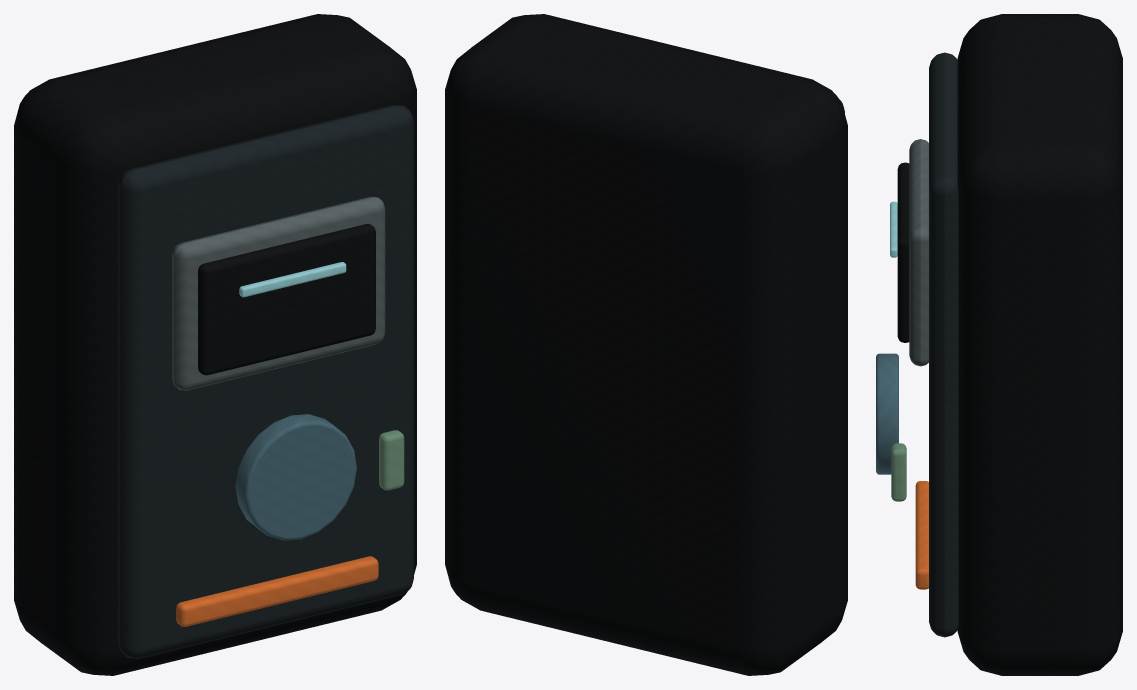
The model's file is AccessReader.glb.
3 views of the same model, side by side, from view 1: azimuth 30°, elevation 25°; view 2: azimuth 150°, elevation 25°; view 3: azimuth 270°, elevation 25° (orthographic). The views are drawn at different scales.
Visible parts, largest first — view 1: AccessReader_Mesh; view 2: AccessReader_Mesh; view 3: AccessReader_Mesh.
Boxes of the visible parts, <box> form: AccessReader_Mesh: <box>14,14,416,675</box>; AccessReader_Mesh: <box>445,14,847,675</box>; AccessReader_Mesh: <box>876,14,1122,675</box>.
Bounding box in the file's own units: 0.3 × 0.46 × 0.194.
7 materials, 7 textured.
